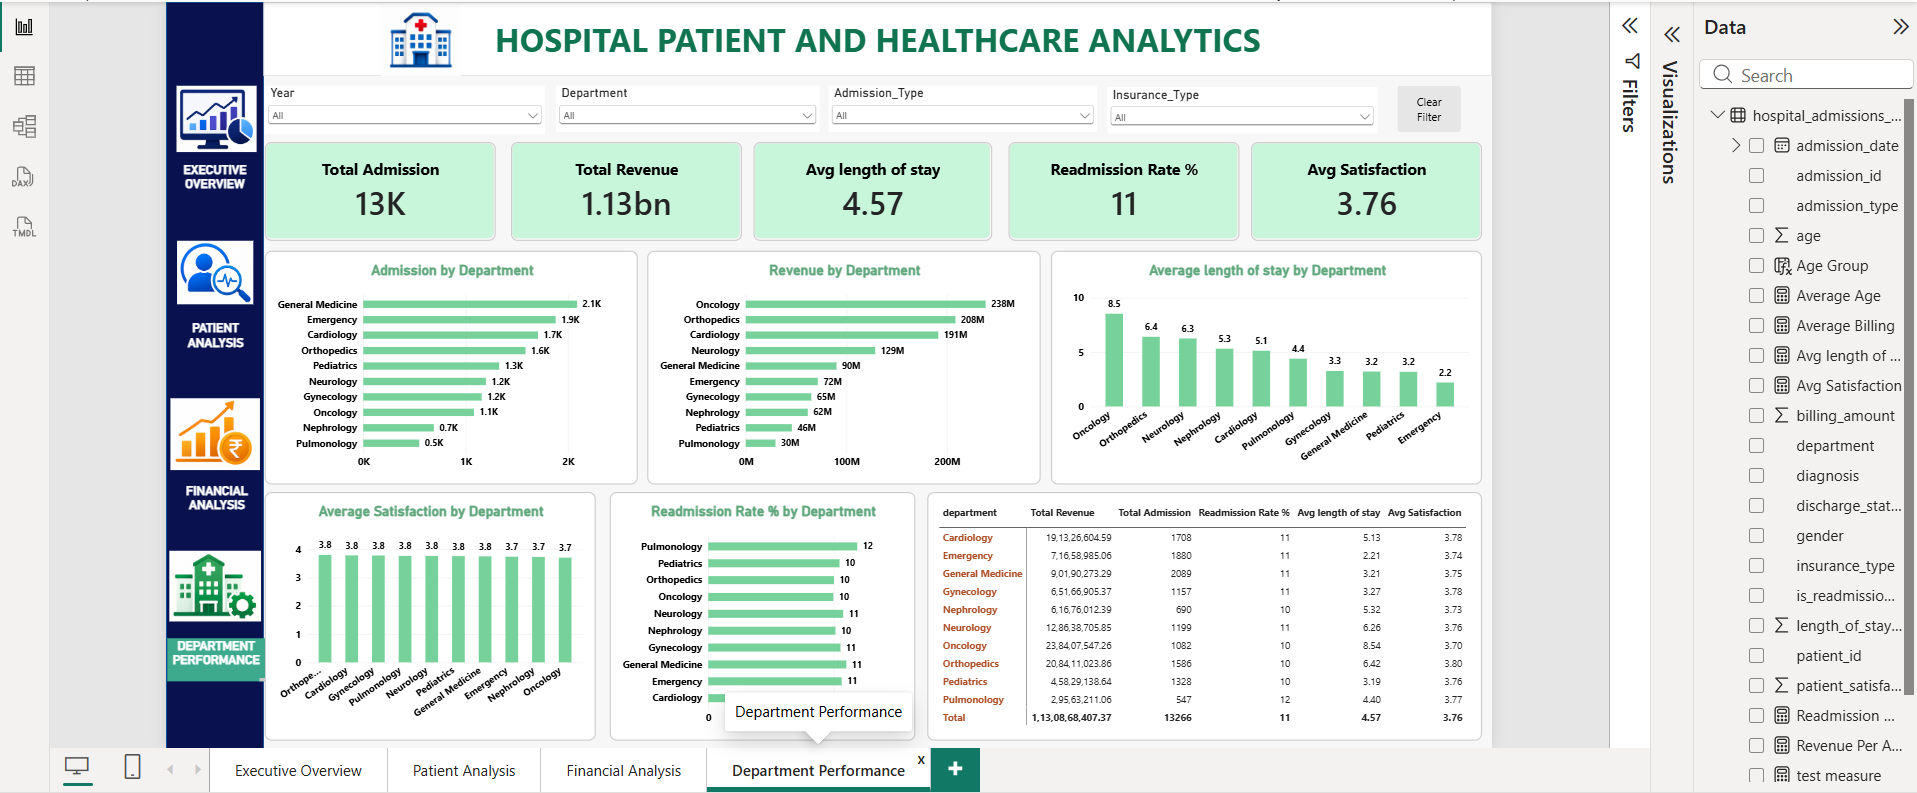

Layout of this report page (visuals, bound fields, positions):
{"tool":"powerbi","page":{"name":"Department Performance","canvas":[1920,1080],"ordinal":3},"visuals":[{"type":"shape","box":[0,0,141.9,1081],"z":0},{"type":"shape","box":[141.2,0,1778.9,106.8],"z":1000},{"type":"slicer","fields":{"Values":["hospital_admissions_data.admission_date.Variation.Date Hierarchy.Year"]},"box":[142.3,121.2,405.8,69.2],"z":2000},{"type":"slicer","fields":{"Values":["hospital_admissions_data.department"]},"box":[564.6,121.2,381.8,67],"z":3000},{"type":"slicer","fields":{"Values":["hospital_admissions_data.admission_type"]},"box":[959.1,121.2,389.1,67],"z":4000},{"type":"slicer","fields":{"Values":["hospital_admissions_data.insurance_type"]},"box":[1362.7,123.1,390.9,67],"z":5000},{"type":"cardVisual","fields":{"Data":["hospital_admissions_data.Total Admission"]},"box":[143,202.7,334.8,143],"z":6000},{"type":"cardVisual","fields":{"Data":["hospital_admissions_data.Total Revenue"]},"box":[499.5,202.7,334.8,143],"z":7000},{"type":"cardVisual","fields":{"Data":["hospital_admissions_data.Avg length of stay"]},"box":[850.5,202.7,345.6,143],"z":8000},{"type":"cardVisual","fields":{"Data":["hospital_admissions_data.Readmission Rate %"]},"box":[1219.7,202.7,334.8,143],"z":9000},{"type":"cardVisual","fields":{"Data":["hospital_admissions_data.Avg Satisfaction"]},"box":[1570.8,202.7,334.8,143],"z":10000},{"type":"clusteredBarChart","title":" Admission by Department","fields":{"Category":["hospital_admissions_data.department"],"Y":["hospital_admissions_data.Total Admission"]},"box":[142.3,359.6,540.4,338.5],"z":11000},{"type":"clusteredBarChart","title":" Revenue by Department","fields":{"Category":["hospital_admissions_data.department"],"Y":["hospital_admissions_data.Total Revenue"]},"box":[696.2,359.6,569.2,338.5],"z":12000},{"type":"clusteredBarChart","title":"Readmission Rate % by Department","fields":{"Category":["hospital_admissions_data.department"],"Y":["hospital_admissions_data.Readmission Rate %"]},"box":[642.4,709.4,442.3,359.6],"z":13000},{"type":"clusteredColumnChart","title":"Average length of stay by Department","fields":{"Category":["hospital_admissions_data.department"],"Y":["hospital_admissions_data.Avg length of stay"]},"box":[1281.2,360.1,624.3,338.4],"z":14000},{"type":"clusteredColumnChart","title":"Average Satisfaction by Department","fields":{"Category":["hospital_admissions_data.department"],"Y":["hospital_admissions_data.Avg Satisfaction"]},"box":[142.3,709.6,478.8,359.6],"z":15000},{"type":"pivotTable","fields":{"Rows":["hospital_admissions_data.department"],"Values":["hospital_admissions_data.Total Revenue","hospital_admissions_data.Total Admission","hospital_admissions_data.Readmission Rate %","hospital_admissions_data.Avg length of stay","hospital_admissions_data.Avg Satisfaction"]},"box":[1102.1,709.4,803.5,360.1],"z":16000},{"type":"textbox","box":[1057,921,697,159],"z":17000},{"type":"actionButton","box":[1782.5,121.2,92.3,67],"z":18000},{"type":"image","box":[260.6,5.4,217.2,101.3],"z":19000},{"type":"textbox","title":"EXECUTIVE OVERVIEW","box":[0,231.7,141.9,83.5],"z":20000},{"type":"textbox","title":"PATIENT ANALYSIS","box":[0,461.2,144,79.3],"z":21000},{"type":"textbox","title":"FINANCIAL ANALYSIS","box":[2.1,697,144,98.1],"z":22000},{"type":"textbox","title":"DEPARTMENT PERFORMANCE","box":[2.1,920.3,141.9,62.6],"z":23000},{"type":"image","box":[0,121,146.1,96],"z":24000},{"type":"image","box":[0,346.4,141.9,91.8],"z":25000},{"type":"image","box":[0,573.9,141.9,104.3],"z":26000},{"type":"image","box":[0,795.1,141.9,102.3],"z":27000}]}

Visuals, with their boxes on the page's 1920x1080 design canvas (x1, y1, x2, y2). These are canvas units, not pixel positions in the 1917x793 screenshot, which may show the page scaled, cropped or inside an application window:
shape: {"left": 0, "top": 0, "right": 142, "bottom": 1081}
shape: {"left": 141, "top": 0, "right": 1920, "bottom": 107}
slicer - hospital_admissions_data.admission_date.Variation.Date Hierarchy.Year: {"left": 142, "top": 121, "right": 548, "bottom": 190}
slicer - hospital_admissions_data.department: {"left": 565, "top": 121, "right": 946, "bottom": 188}
slicer - hospital_admissions_data.admission_type: {"left": 959, "top": 121, "right": 1348, "bottom": 188}
slicer - hospital_admissions_data.insurance_type: {"left": 1363, "top": 123, "right": 1754, "bottom": 190}
cardVisual - hospital_admissions_data.Total Admission: {"left": 143, "top": 203, "right": 478, "bottom": 346}
cardVisual - hospital_admissions_data.Total Revenue: {"left": 500, "top": 203, "right": 834, "bottom": 346}
cardVisual - hospital_admissions_data.Avg length of stay: {"left": 850, "top": 203, "right": 1196, "bottom": 346}
cardVisual - hospital_admissions_data.Readmission Rate %: {"left": 1220, "top": 203, "right": 1554, "bottom": 346}
cardVisual - hospital_admissions_data.Avg Satisfaction: {"left": 1571, "top": 203, "right": 1906, "bottom": 346}
" Admission by Department" clusteredBarChart: {"left": 142, "top": 360, "right": 683, "bottom": 698}
" Revenue by Department" clusteredBarChart: {"left": 696, "top": 360, "right": 1265, "bottom": 698}
"Readmission Rate % by Department" clusteredBarChart: {"left": 642, "top": 709, "right": 1085, "bottom": 1069}
"Average length of stay by Department" clusteredColumnChart: {"left": 1281, "top": 360, "right": 1906, "bottom": 698}
"Average Satisfaction by Department" clusteredColumnChart: {"left": 142, "top": 710, "right": 621, "bottom": 1069}
pivotTable - hospital_admissions_data.department x hospital_admissions_data.Total Revenue: {"left": 1102, "top": 709, "right": 1906, "bottom": 1070}
textbox: {"left": 1057, "top": 921, "right": 1754, "bottom": 1080}
actionButton: {"left": 1782, "top": 121, "right": 1875, "bottom": 188}
image: {"left": 261, "top": 5, "right": 478, "bottom": 107}
"EXECUTIVE OVERVIEW" textbox: {"left": 0, "top": 232, "right": 142, "bottom": 315}
"PATIENT ANALYSIS" textbox: {"left": 0, "top": 461, "right": 144, "bottom": 540}
"FINANCIAL ANALYSIS" textbox: {"left": 2, "top": 697, "right": 146, "bottom": 795}
"DEPARTMENT PERFORMANCE" textbox: {"left": 2, "top": 920, "right": 144, "bottom": 983}
image: {"left": 0, "top": 121, "right": 146, "bottom": 217}
image: {"left": 0, "top": 346, "right": 142, "bottom": 438}
image: {"left": 0, "top": 574, "right": 142, "bottom": 678}
image: {"left": 0, "top": 795, "right": 142, "bottom": 897}
